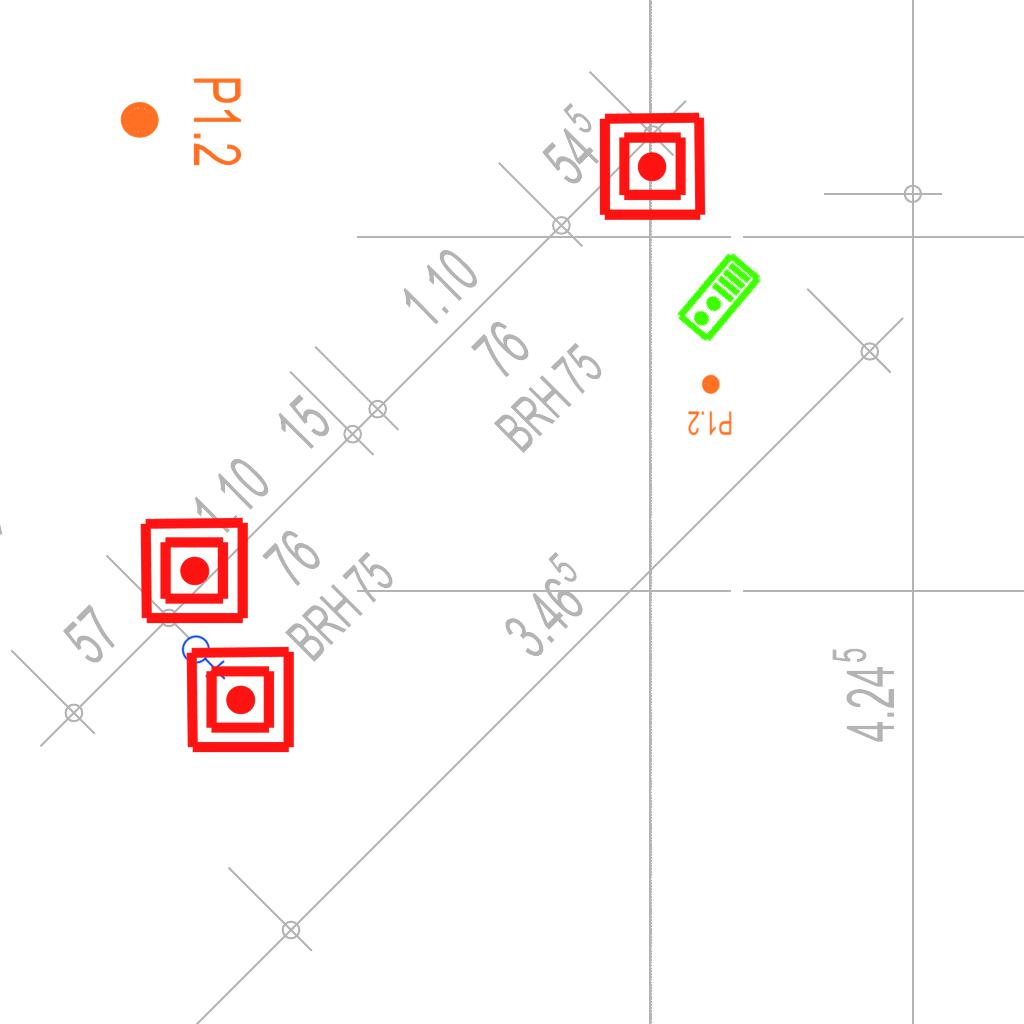Downlight_LED_Einbauleuchten_Flur: (117, 75, 245, 168), (687, 373, 733, 437)
Elektroanschluss_allgemein_230V_Geraeteanschlussdose_230V: (181, 631, 228, 680)
Gegensprechanlage_mit_Video: (673, 249, 766, 347)
NAM-Nichtautomatischer_Melder: (596, 110, 709, 223), (138, 514, 251, 627), (184, 643, 297, 756)
